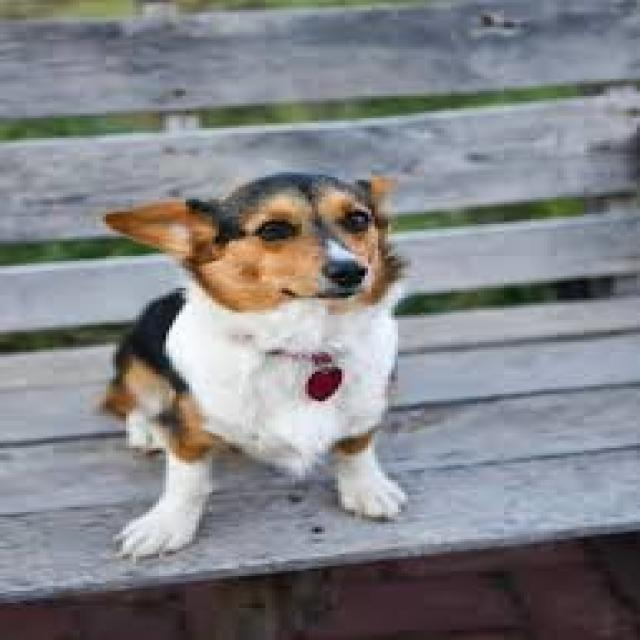CORGI: (68, 156, 439, 557)
